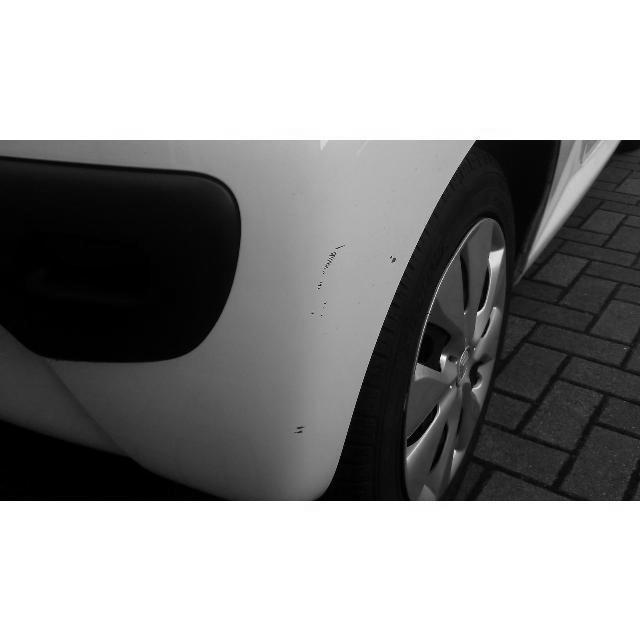front-bumper-dent: (265, 176, 420, 446)
